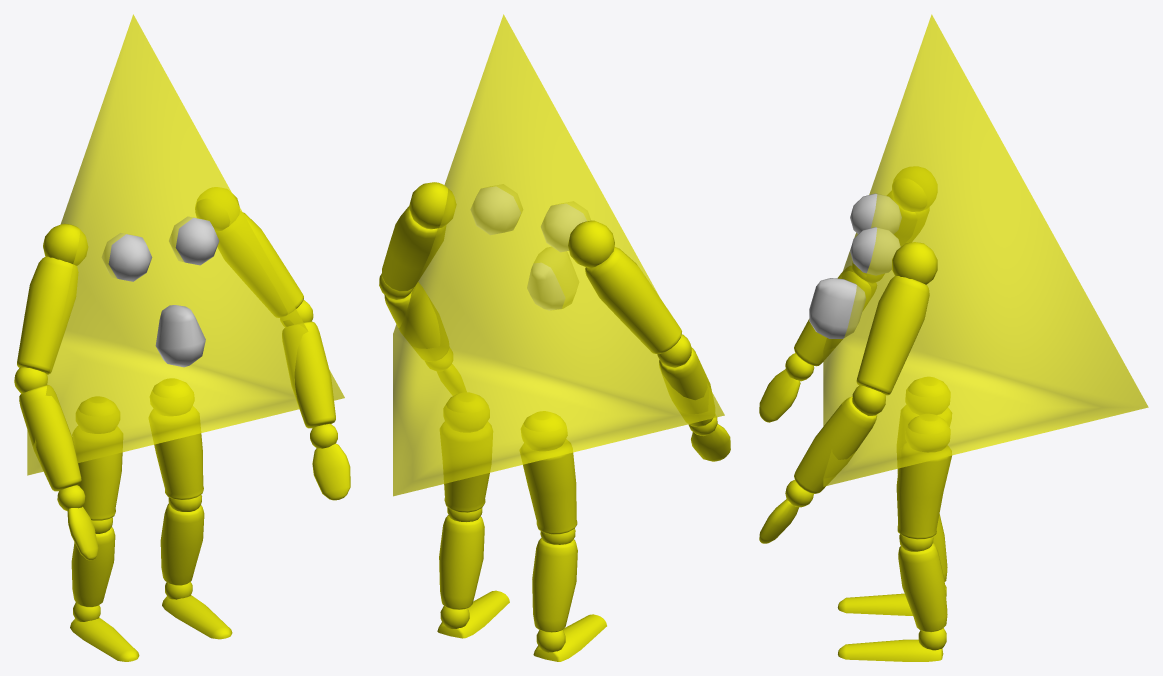
Rendered from Piramides - 03 - 11.fbx.
3 renders of one model, left to right at view 1: azimuth 30°, elevation 25°; view 2: azimuth 150°, elevation 25°; view 3: azimuth 270°, elevation 25°, orthographic. The views are drawn at different scales.
Visible parts, largest first — view 1: Piramides 3 - Extremidades1; view 2: Piramides 3 - Extremidades1; view 3: Piramides 3 - Extremidades1.
Boxes of the visible parts, x1,y1,x2,y2 form: Piramides 3 - Extremidades1: (14,14,350,661); Piramides 3 - Extremidades1: (379,14,730,661); Piramides 3 - Extremidades1: (759,14,1148,661).
Size of the model in its own units: 113 by 204 by 117.
